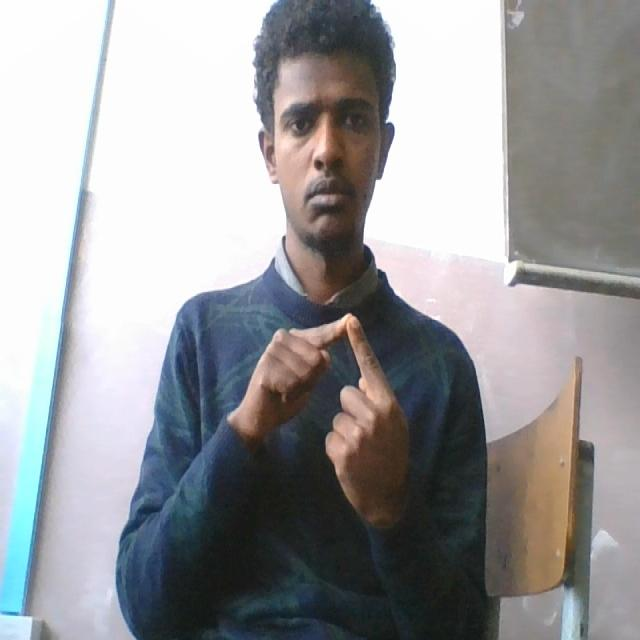wede: (244, 301, 419, 535)
